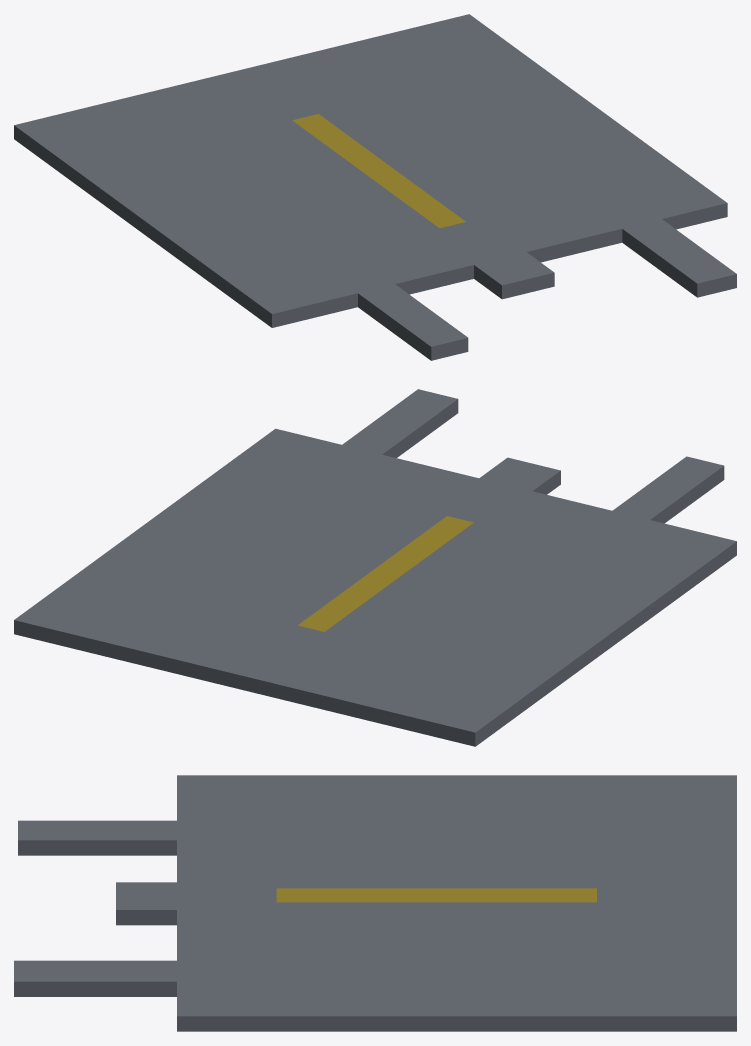
Rendered from 1st floor.fbx.
3 views of the same model, one above another, from view 1: azimuth 30°, elevation 25°; view 2: azimuth 150°, elevation 25°; view 3: azimuth 270°, elevation 25° (orthographic). The views are drawn at different scales.
Visible parts, largest first — view 1: 1st; view 2: 1st; view 3: 1st.
Boxes of the visible parts, x1,y1,x2,y2 form: 1st: [14, 14, 736, 360]; 1st: [14, 389, 736, 746]; 1st: [14, 775, 736, 1031].
Size of the model in its own units: 2089 by 61.37 by 2647.
